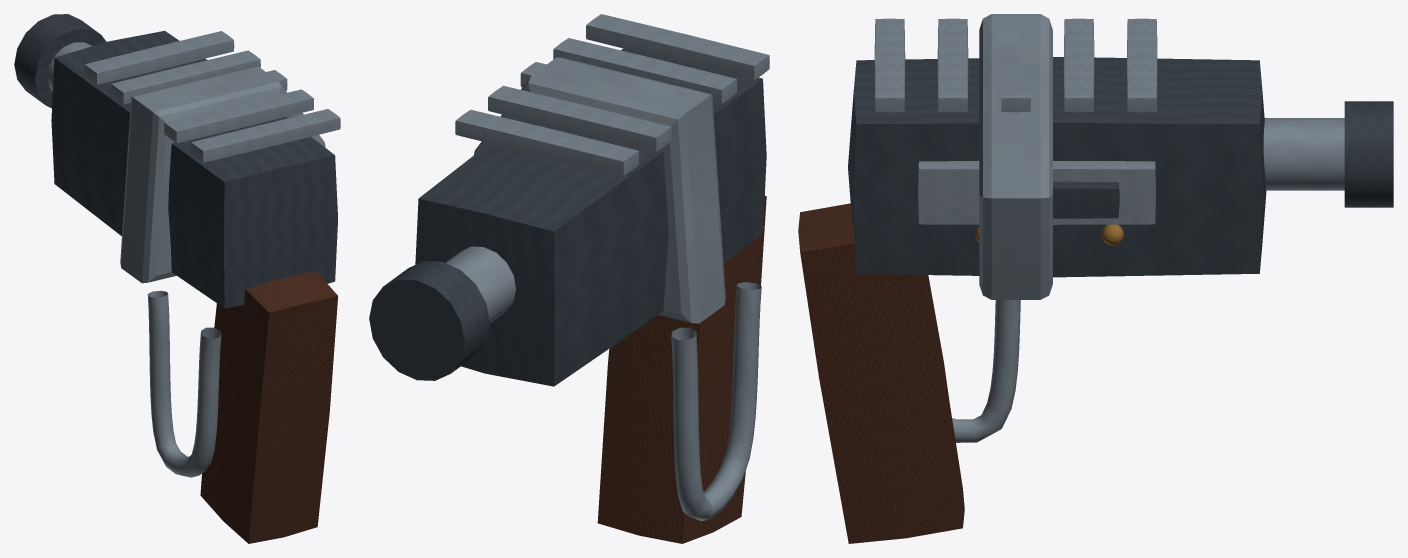
Rendered from sidearm.lod1.glb.
3 views of the same model, side by side, from view 1: azimuth 30°, elevation 25°; view 2: azimuth 150°, elevation 25°; view 3: azimuth 270°, elevation 25° (orthographic). The views are drawn at different scales.
Visible parts, largest first — view 1: iron.0, leather.1, steel.8, steel.9, iron.14, steel.3, steel.6, steel.7, steel.4, steel.2; view 2: iron.0, leather.1, steel.8, steel.9, iron.14, steel.4, steel.7, steel.3, steel.6, steel.2; view 3: iron.0, leather.1, steel.8, steel.10, steel.2, iron.14, steel.9, steel.6, steel.3, steel.4, steel.7, iron.11.
Part boxes in pixels (x1,y1,x2,y2): iron.0: [51, 30, 337, 308]; leather.1: [200, 271, 337, 543]; steel.8: [120, 66, 325, 283]; steel.9: [147, 290, 221, 477]; iron.14: [14, 14, 106, 108]; steel.3: [84, 31, 234, 84]; steel.6: [164, 89, 313, 143]; steel.7: [191, 109, 340, 162]; steel.4: [111, 50, 260, 104]; steel.2: [47, 42, 92, 91]; iron.0: [415, 48, 766, 386]; leather.1: [597, 195, 766, 543]; steel.8: [474, 57, 725, 323]; steel.9: [671, 282, 761, 520]; iron.14: [369, 261, 489, 380]; steel.4: [488, 85, 671, 151]; steel.7: [586, 14, 769, 80]; steel.3: [455, 109, 639, 175]; steel.6: [553, 38, 737, 103]; steel.2: [445, 246, 516, 322]; iron.0: [848, 57, 1266, 277]; leather.1: [798, 203, 964, 543]; steel.8: [979, 14, 1052, 299]; steel.10: [918, 161, 1156, 224]; steel.2: [1263, 118, 1344, 190]; iron.14: [1344, 101, 1393, 207]; steel.9: [952, 300, 1020, 442]; steel.6: [937, 18, 968, 112]; steel.3: [1126, 18, 1157, 112]; steel.4: [1063, 18, 1094, 112]; steel.7: [874, 18, 905, 112]; iron.11: [1053, 181, 1119, 218].
Size of the model in its own units: 0.1785 by 0.3711 by 0.4249.
4 materials, 4 textured.
